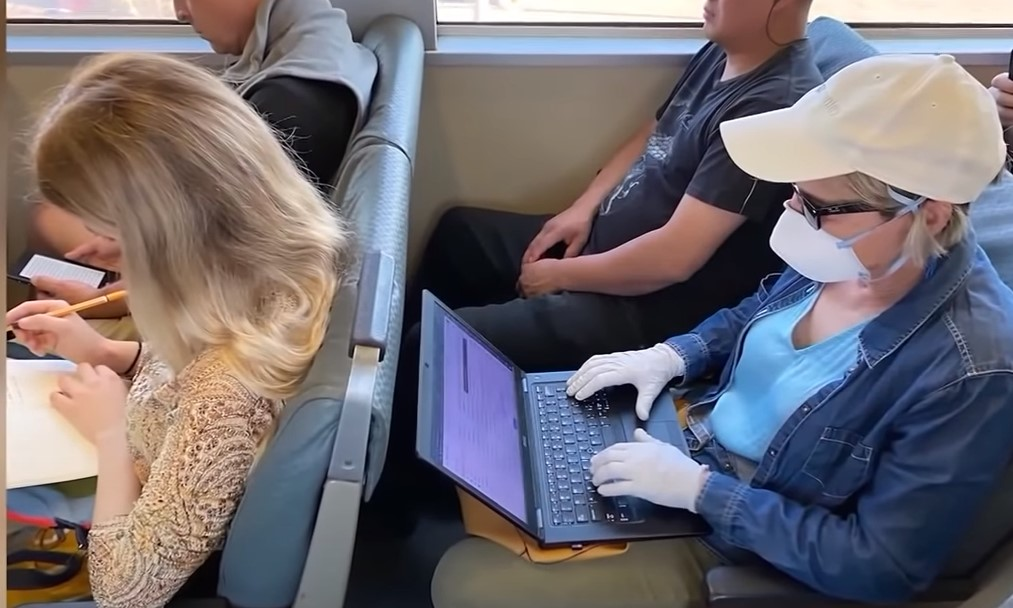face_no_mask: (172, 0, 267, 60), (704, 0, 812, 43)
face_with_mask: (765, 53, 1005, 290)
